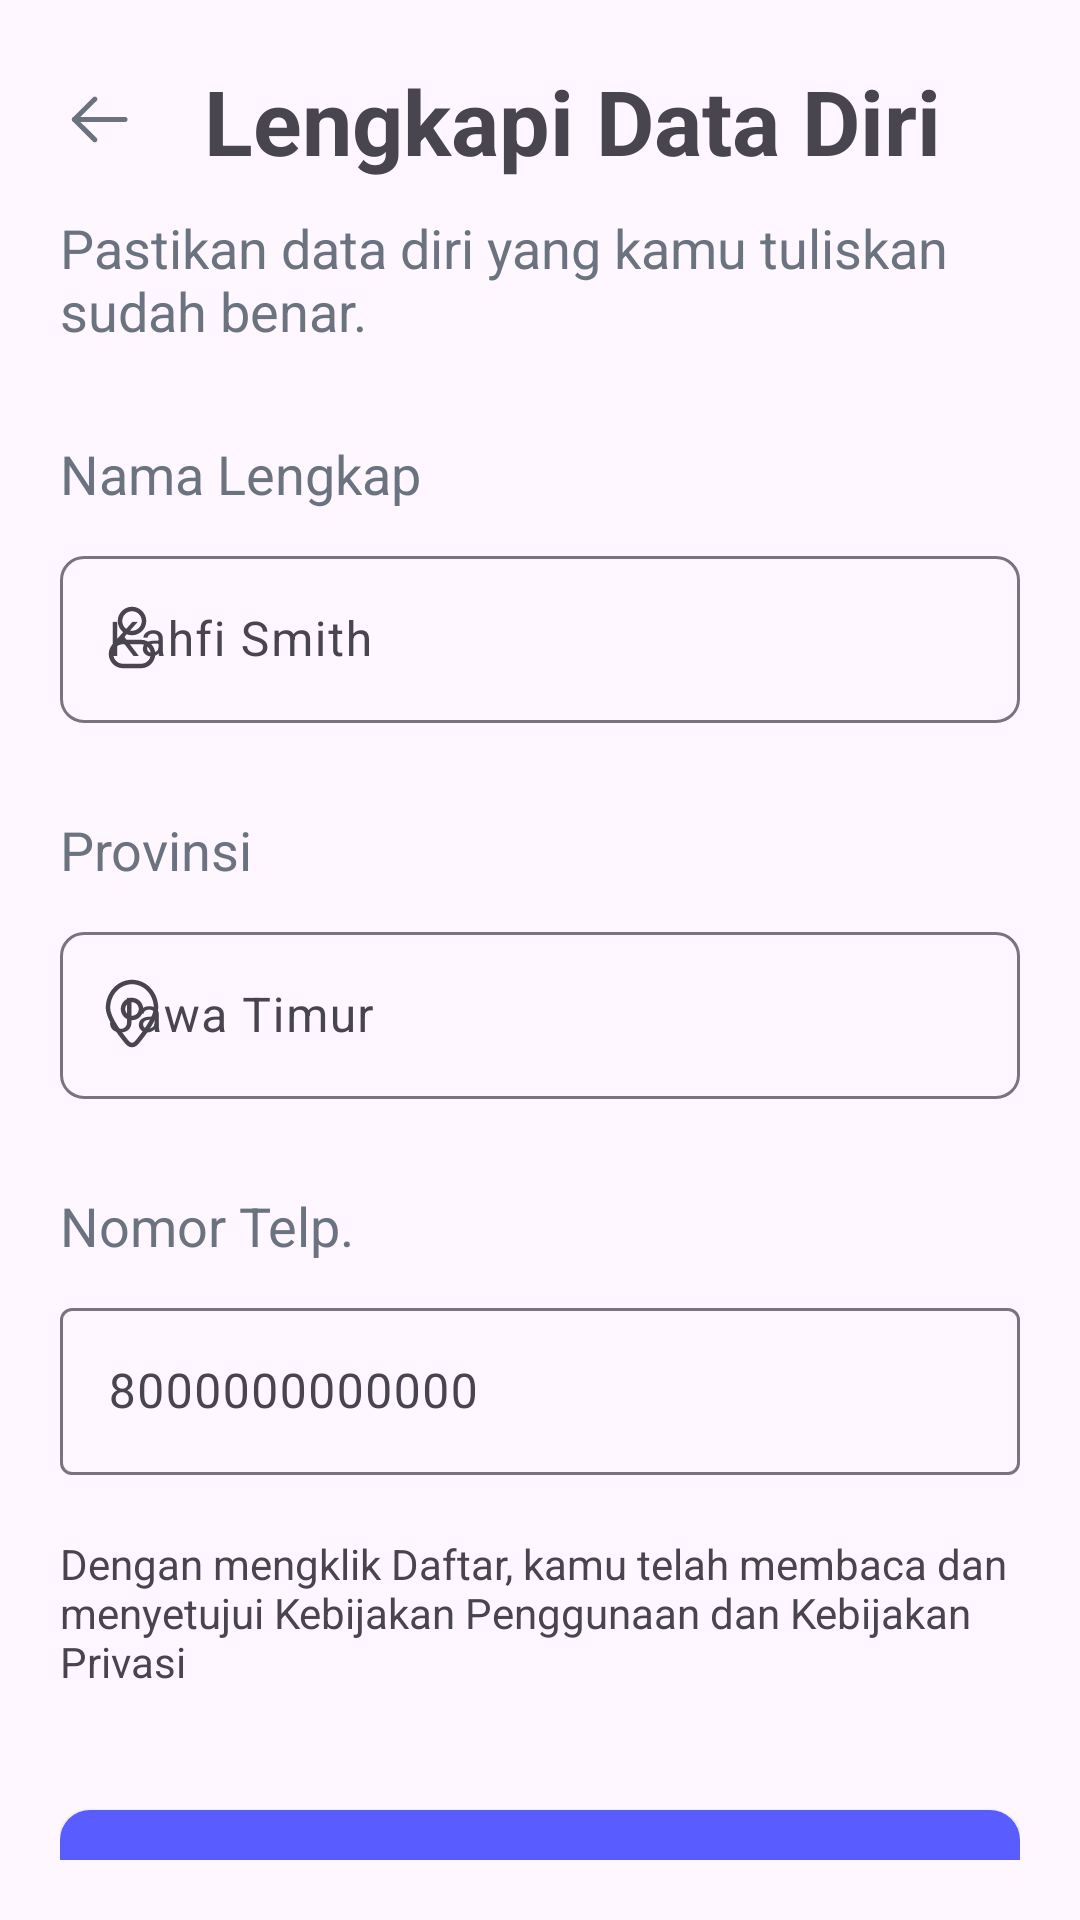

Icon bounding boxes for this 1080px x 1920px phone screenshot, format (x1, y1, x2, y2):
arrow left: (71, 96, 128, 143)
